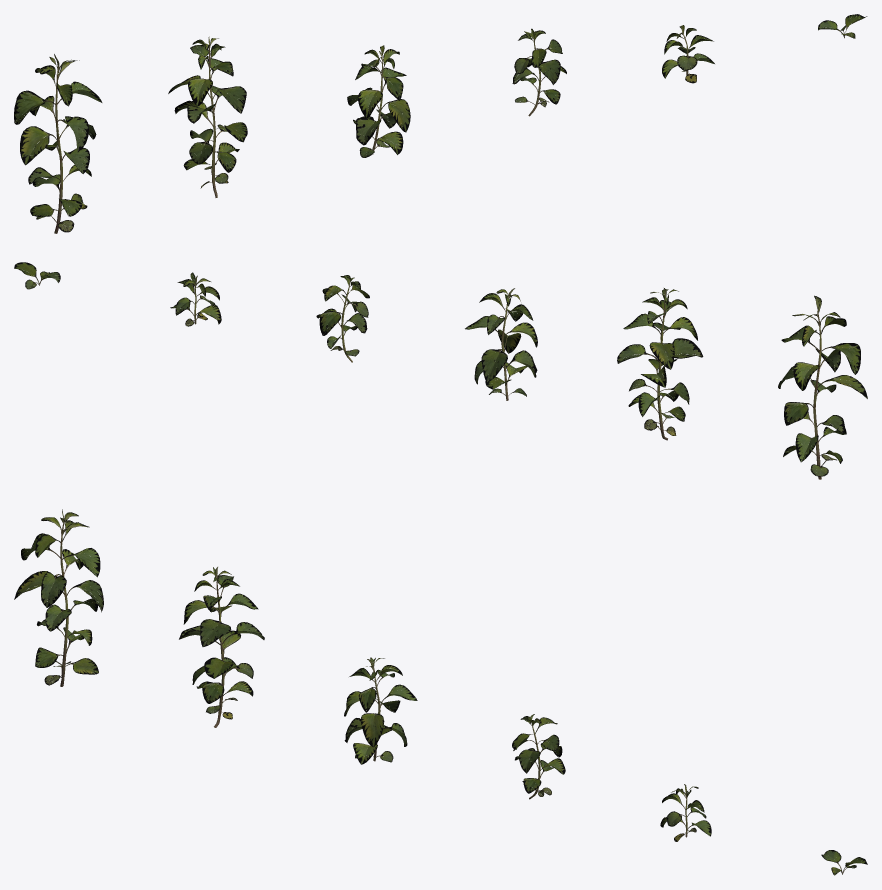
File: nettle_plant.glb
The picture shows the model from 3 angles, top to bottom: view 1: azimuth 30°, elevation 25°; view 2: azimuth 150°, elevation 25°; view 3: azimuth 330°, elevation 25°; orthographic projection.
Parts seen in each view (by area): view 1: nettle_plant_tall_a_LOD0, nettle_plant_tall_b_LOD0, nettle_plant_medium_a_LOD0, nettle_plant_medium_b_LOD0, nettle_plant_small_a_LOD0; view 2: nettle_plant_tall_a_LOD0, nettle_plant_tall_b_LOD0, nettle_plant_medium_a_LOD0, nettle_plant_medium_b_LOD0, nettle_plant_small_a_LOD0, nettle_plant_small_b_LOD0; view 3: nettle_plant_tall_a_LOD0, nettle_plant_tall_b_LOD0, nettle_plant_medium_a_LOD0, nettle_plant_medium_b_LOD0, nettle_plant_small_a_LOD0.
Part boxes in pixels (x1,y1,x2,y2): nettle_plant_tall_a_LOD0: [14, 54, 102, 233]; nettle_plant_tall_b_LOD0: [168, 36, 247, 197]; nettle_plant_medium_a_LOD0: [347, 45, 410, 157]; nettle_plant_medium_b_LOD0: [512, 28, 566, 116]; nettle_plant_small_a_LOD0: [662, 25, 714, 83]; nettle_plant_tall_a_LOD0: [778, 295, 867, 479]; nettle_plant_tall_b_LOD0: [617, 288, 703, 440]; nettle_plant_medium_a_LOD0: [465, 288, 537, 400]; nettle_plant_medium_b_LOD0: [316, 275, 369, 362]; nettle_plant_small_a_LOD0: [170, 272, 221, 326]; nettle_plant_small_b_LOD0: [14, 262, 60, 289]; nettle_plant_tall_a_LOD0: [14, 509, 103, 686]; nettle_plant_tall_b_LOD0: [179, 567, 264, 727]; nettle_plant_medium_a_LOD0: [344, 657, 417, 764]; nettle_plant_medium_b_LOD0: [512, 714, 565, 799]; nettle_plant_small_a_LOD0: [660, 784, 711, 841].
Size of the model in its own units: 1.08 by 0.2182 by 0.0949.
Materials: 1 (1 with a texture image).
